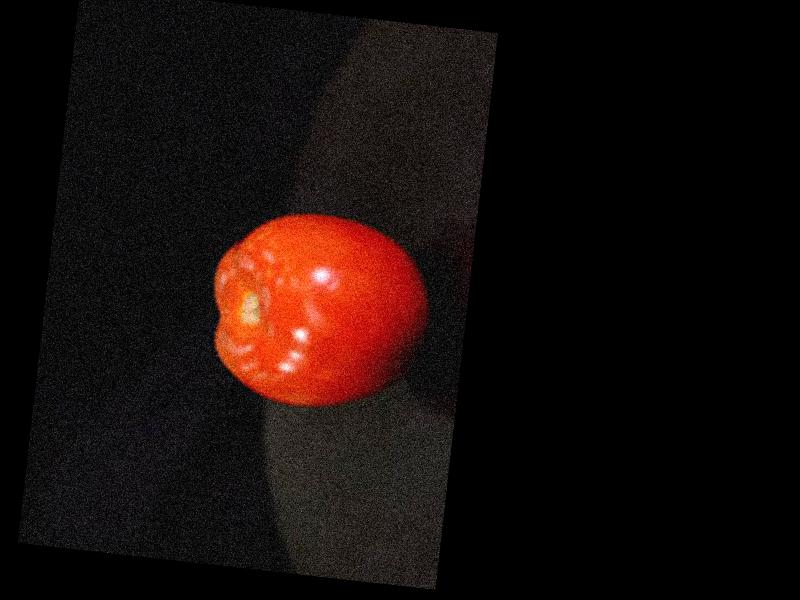Tomato: (201, 201, 434, 417)
